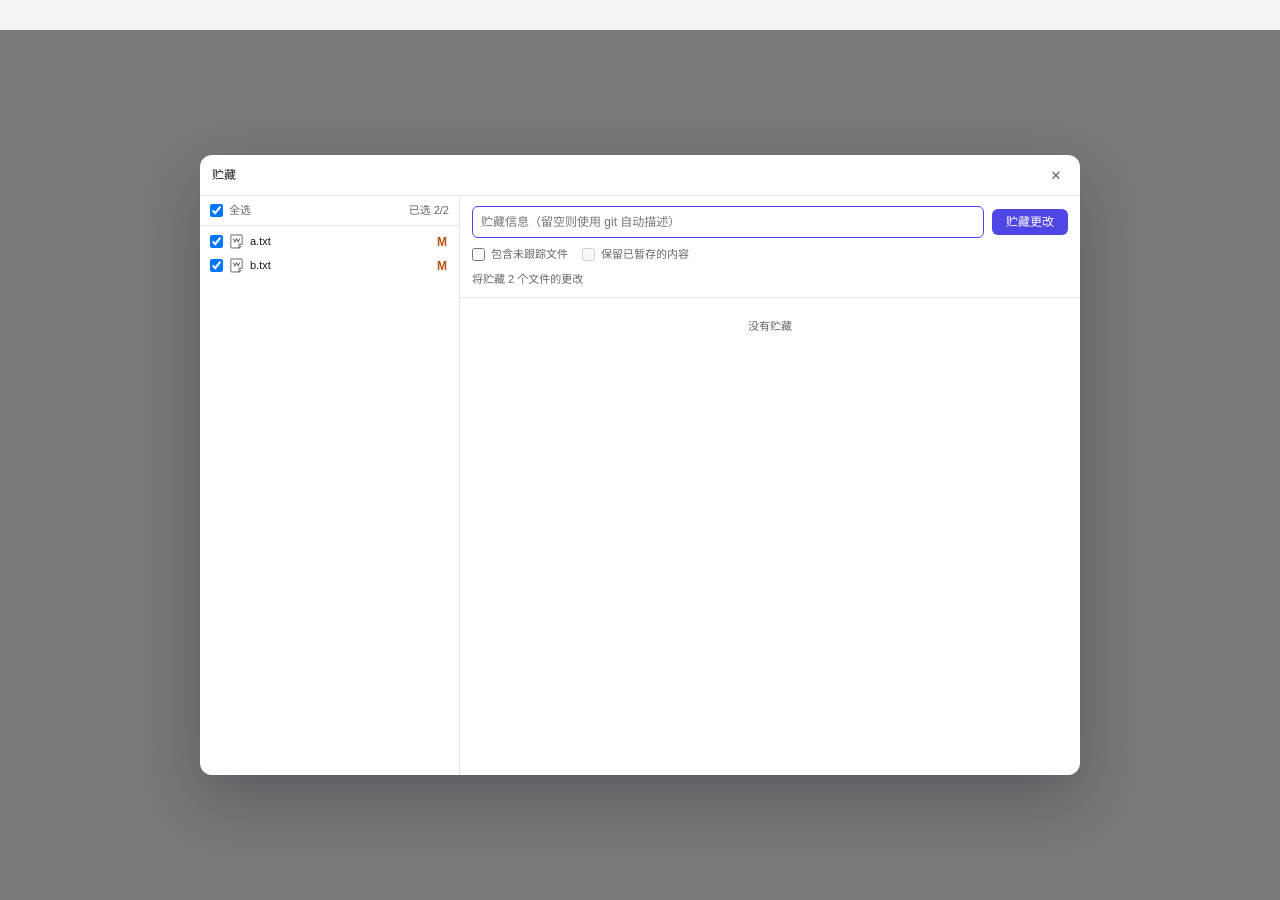
Scenario: 全选又全不选：一个都不选时禁用按钮（空数组在 IPC 层是「全部」）
Click the checkbox labelled "全选" at [216, 210], box [210,204,223,217]
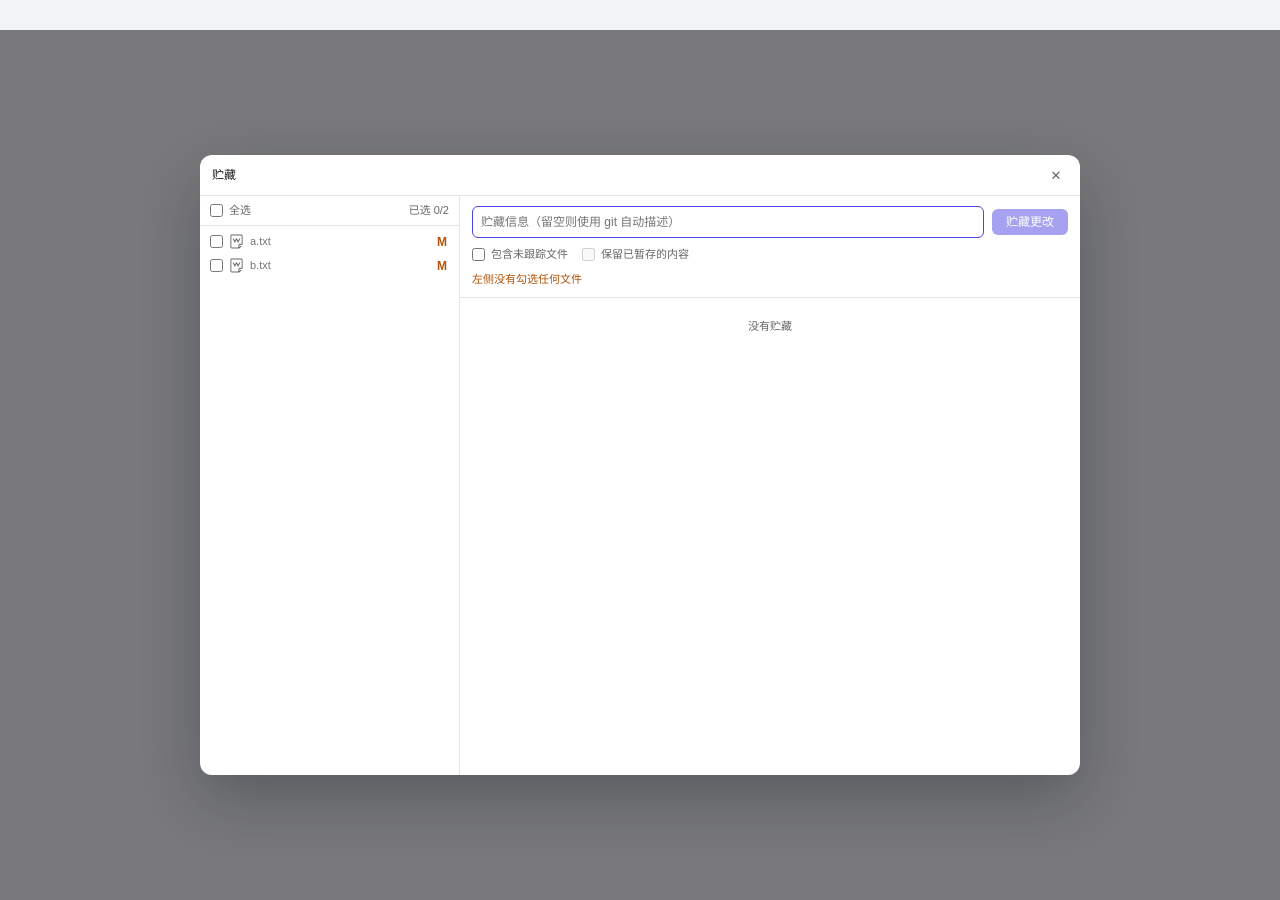
Expected: the checkbox labelled "全选" is not checked
Expected: the button with class "git-primary-btn" is disabled, [992,209,1068,235]
Expected: the text with class "git-stash-hint" reads "左侧没有勾选任何文件", [472,272,582,284]
Click the checkbox labelled "全选" at [216, 210], box [210,204,223,217]
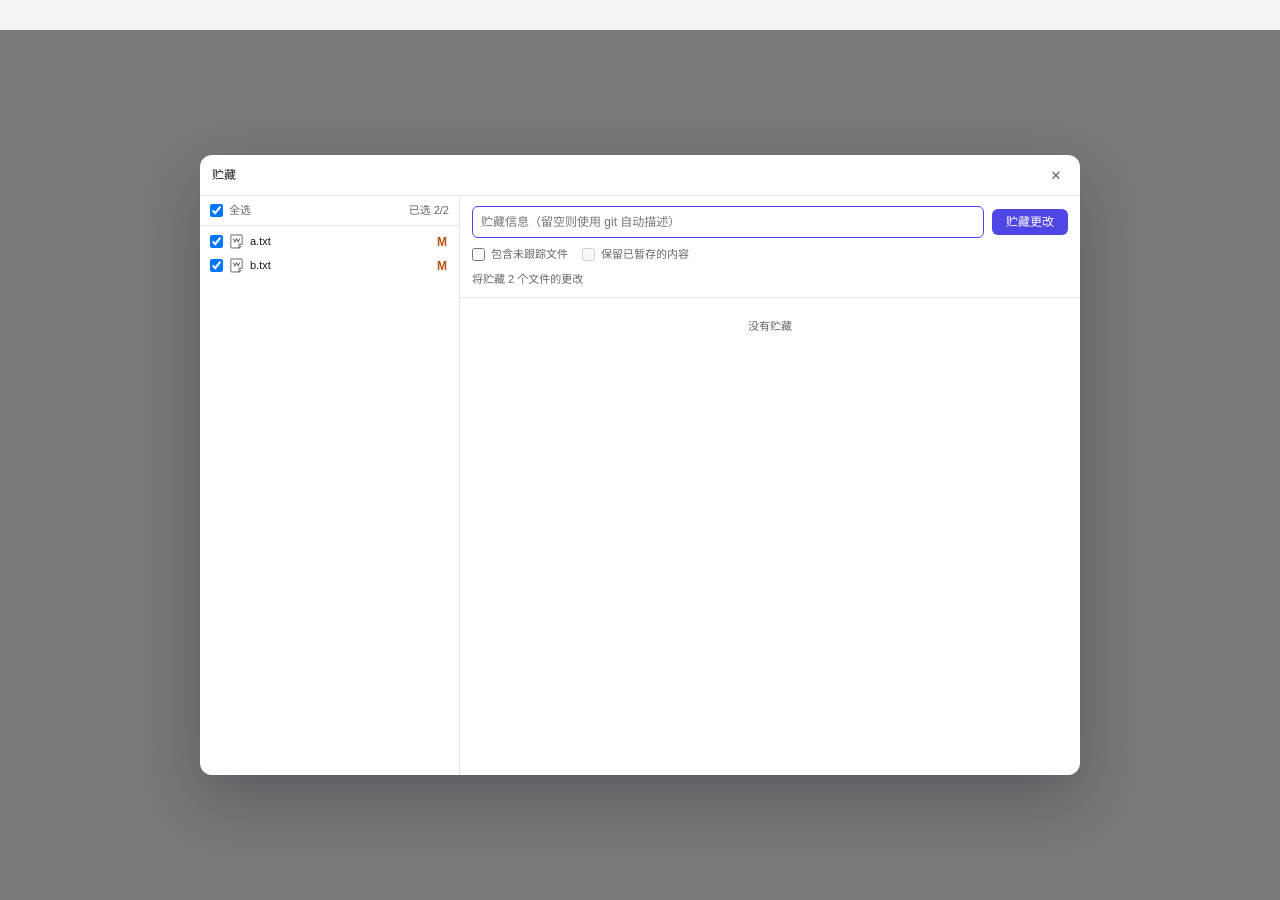
Expected: the button with class "git-primary-btn" is enabled, [992,209,1068,235]
Expected: the text with class "git-stash-hint" reads "将贮藏 2 个文件的更改", [472,272,583,284]
